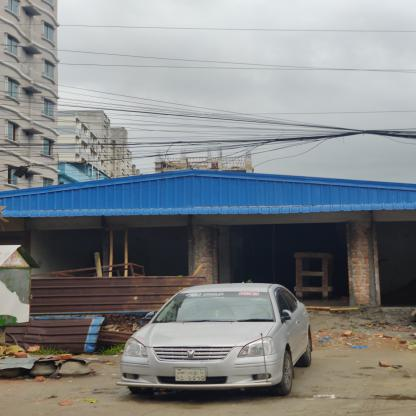license_plate: (173, 367, 208, 382)
